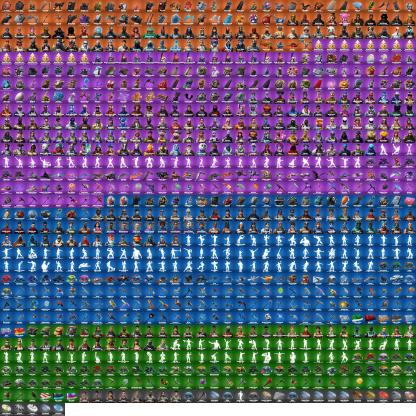person: (2, 39, 13, 51), (365, 131, 376, 143), (261, 225, 273, 236), (146, 392, 157, 403), (120, 391, 130, 403), (105, 392, 116, 402), (2, 236, 12, 247), (172, 392, 182, 402), (80, 393, 90, 403), (93, 26, 103, 36), (237, 222, 247, 232), (53, 40, 64, 49), (198, 118, 206, 130), (326, 207, 334, 219), (29, 42, 39, 51), (171, 27, 181, 36), (67, 222, 74, 234), (146, 30, 156, 38), (211, 144, 217, 155), (81, 42, 90, 49)
